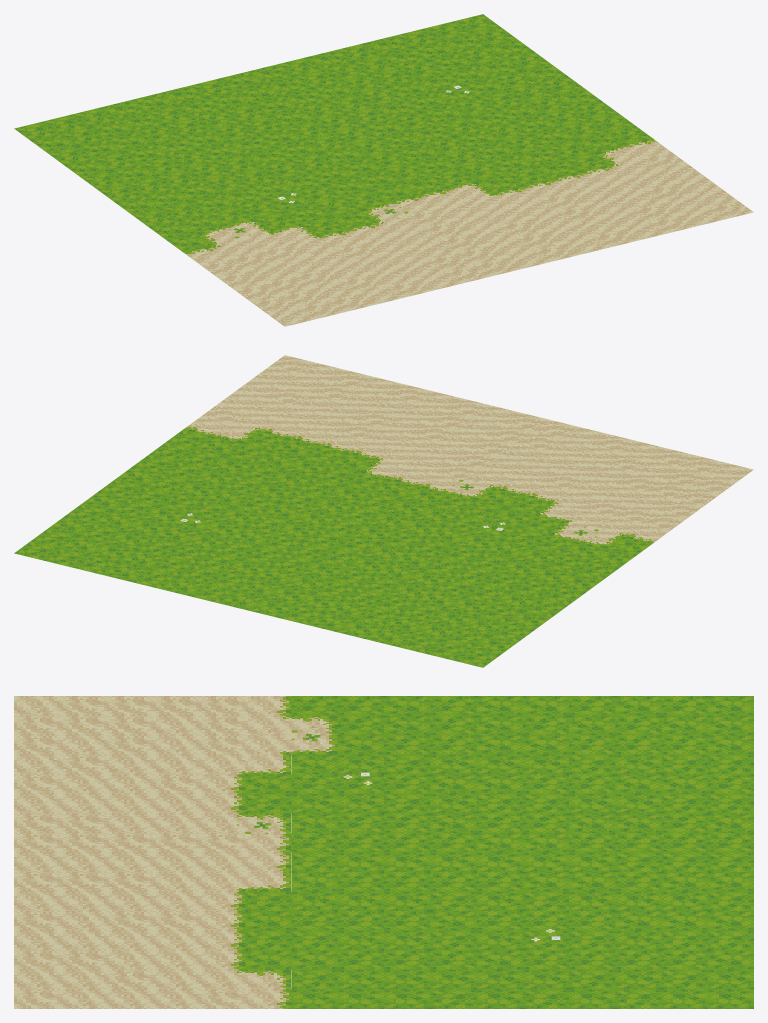
The model's file is chunk1.glb.
The picture shows the model from 3 angles, top to bottom: view 1: azimuth 30°, elevation 25°; view 2: azimuth 150°, elevation 25°; view 3: azimuth 270°, elevation 25°; orthographic projection. The views are drawn at different scales.
Parts seen in each view (by area): view 1: main; view 2: main; view 3: main.
Part boxes in pixels (bbox=[...]): main: bbox=[14, 14, 753, 326]; main: bbox=[14, 355, 753, 667]; main: bbox=[14, 696, 753, 1008].
Bounding box in the file's own units: 16 × 0.1251 × 16.
Materials: 1 (1 with a texture image).
